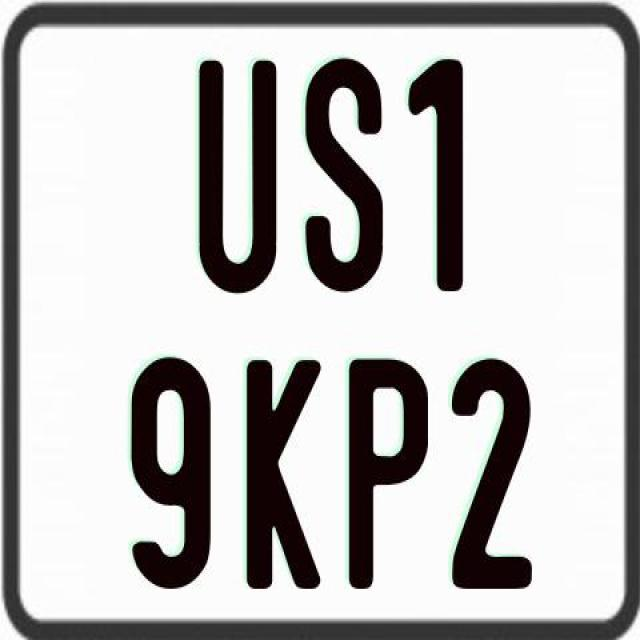1: (406, 59, 466, 296)
2: (452, 358, 540, 590)
9: (126, 352, 210, 589)
K: (244, 357, 320, 589)
P: (349, 354, 436, 594)
S: (302, 56, 384, 293)
U: (195, 61, 278, 300)
